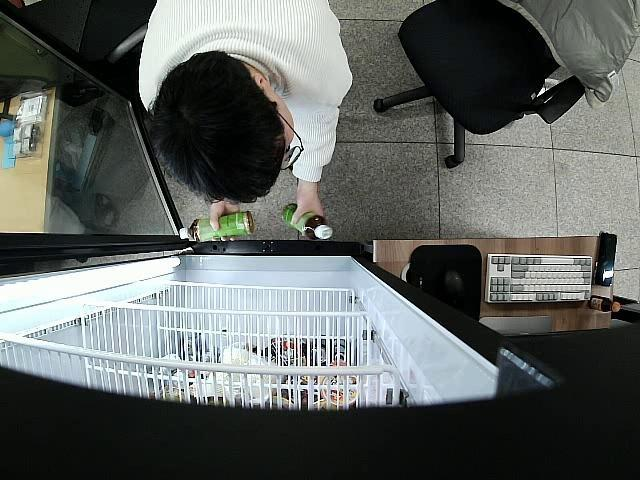19_17cha: (178, 212, 256, 243), (282, 204, 333, 242)
